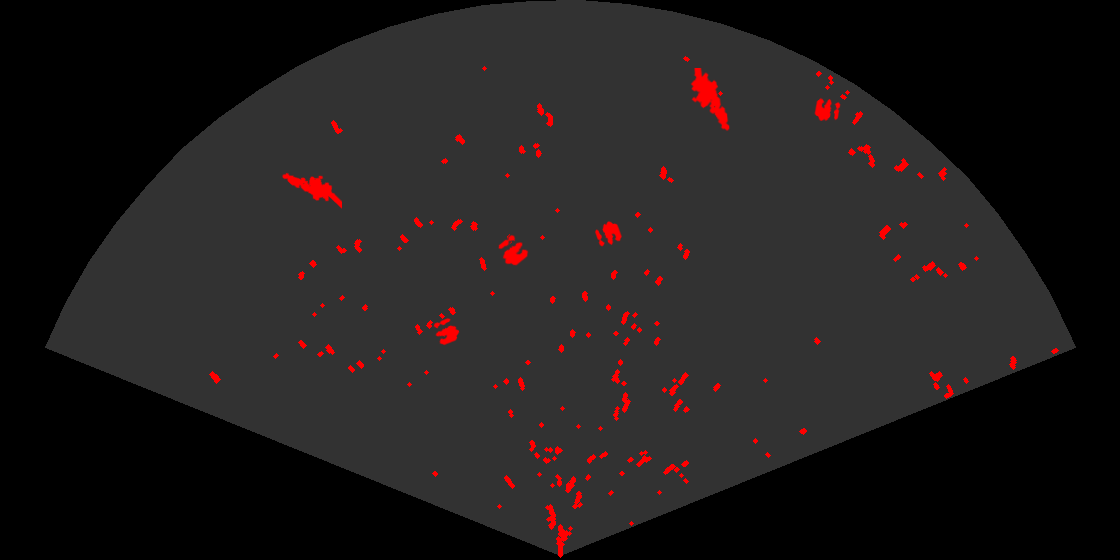ball: (497, 233, 530, 267), (432, 317, 461, 347), (593, 220, 623, 248), (813, 96, 842, 123)
frogman: (689, 68, 731, 133), (281, 171, 342, 210)
